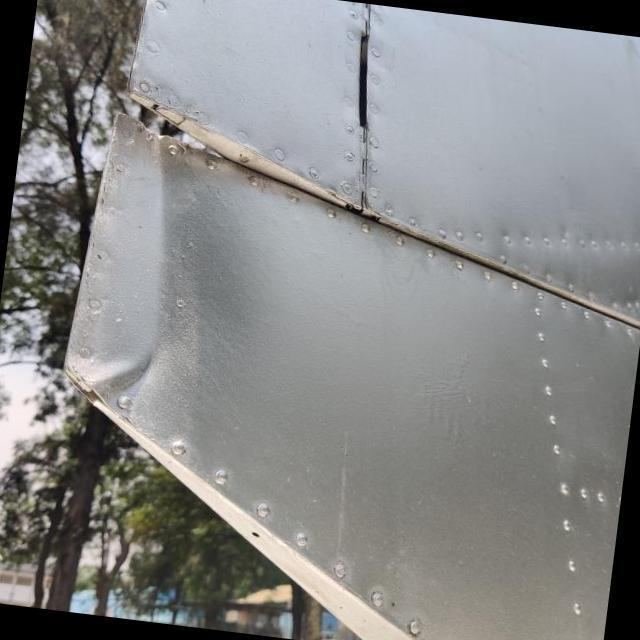Dent: (80, 324, 170, 415)
